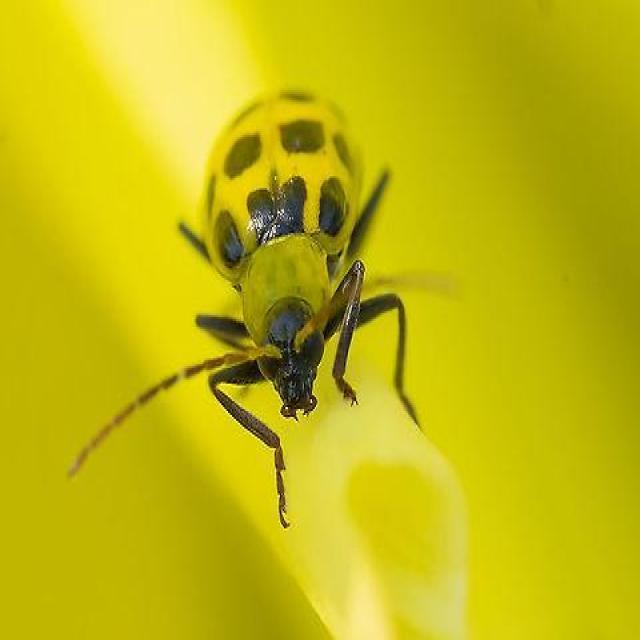gusano_verde: (65, 83, 425, 530)
